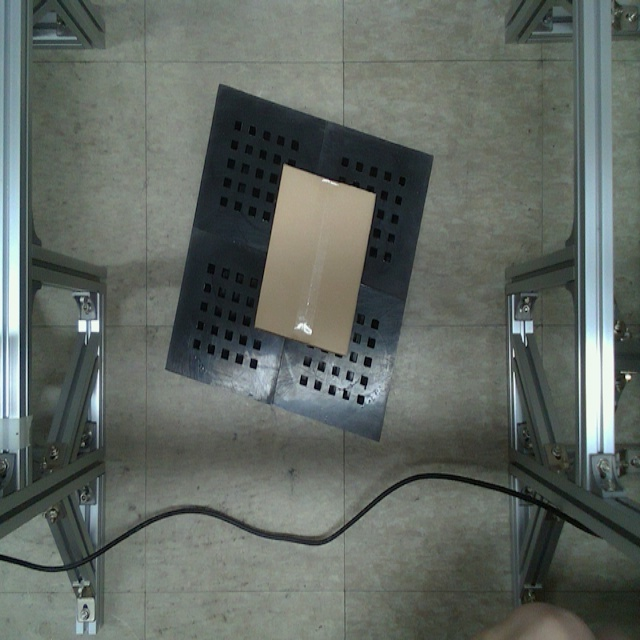box: (249, 157, 377, 364)
pallet: (159, 78, 437, 443)
